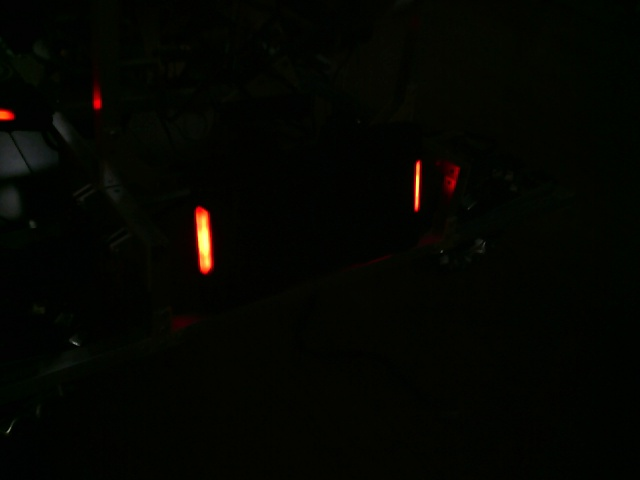lamp: (191, 201, 217, 278), (412, 158, 424, 216)
